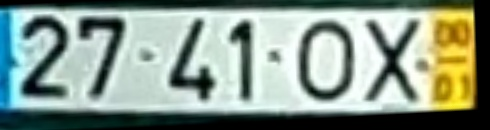1: (224, 18, 257, 107)
2: (17, 13, 74, 101)
4: (164, 16, 221, 104)
7: (77, 13, 129, 101)
O: (295, 17, 359, 105)
X: (362, 16, 424, 105)
